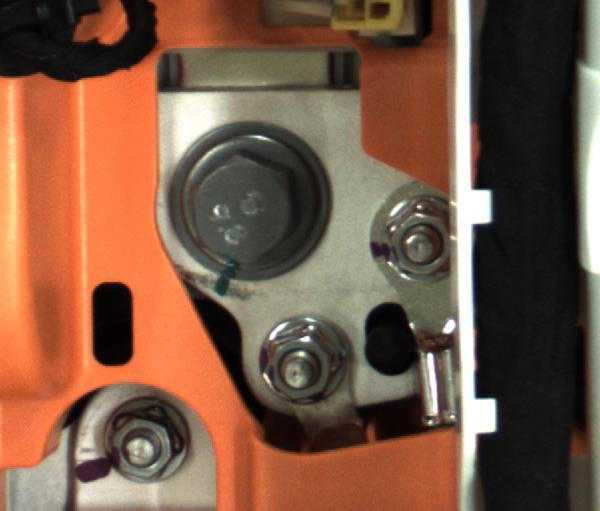nut_b: (166, 117, 322, 275)
screw_s: (104, 393, 193, 487), (265, 317, 349, 398), (379, 195, 454, 282)
